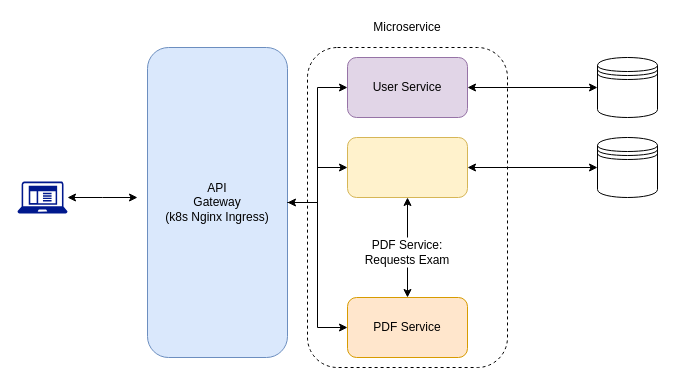
The diagram is 675 pixels wide and 385 high, and some of its shapes have lost their labels. The shapes that lost their labels are listed below. From the top down, each one's centre as x and y in pixels, then its label:
the point at 407,167: Exam Service
the point at 42,197: Client
